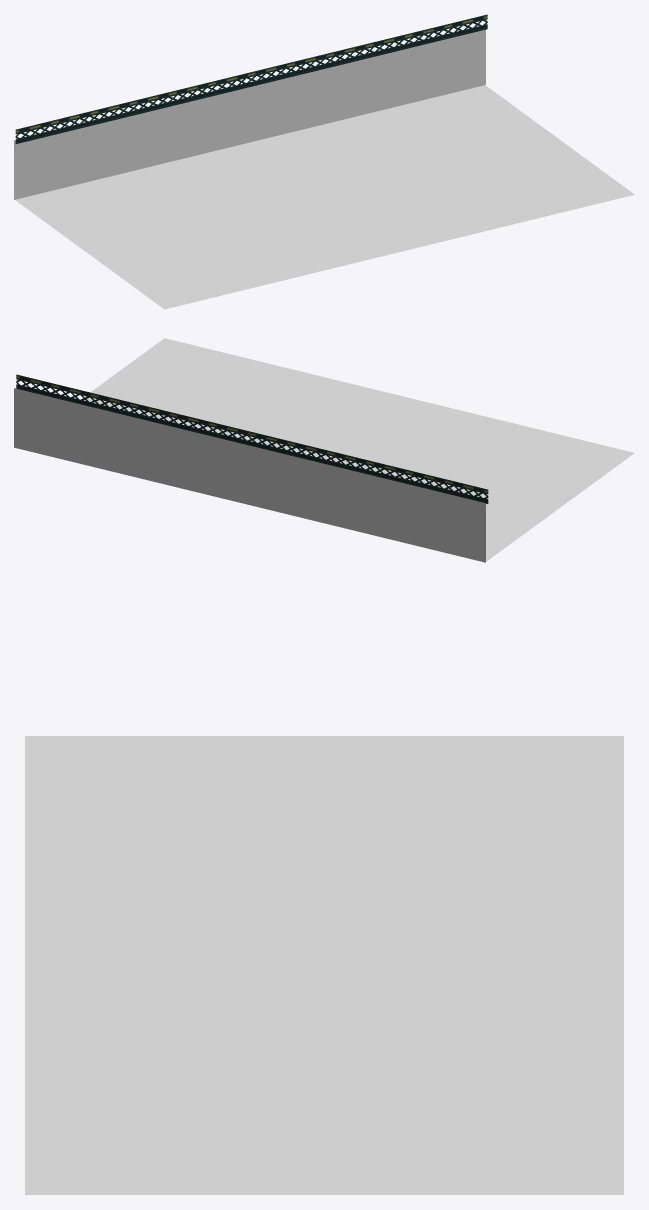
File: background_b.FBX
The picture shows the model from 3 angles, top to bottom: view 1: azimuth 30°, elevation 25°; view 2: azimuth 150°, elevation 25°; view 3: azimuth 270°, elevation 25°; orthographic projection. The views are drawn at different scales.
Parts seen in each view (by area): view 1: navimesh, wall, chulgole; view 2: navimesh, wall, chulgole; view 3: navimesh.
Boxes of the visible parts, bbox=[...] form: navimesh: bbox=[15, 85, 634, 309]; wall: bbox=[14, 29, 485, 199]; chulgole: bbox=[15, 14, 487, 143]; navimesh: bbox=[82, 338, 634, 561]; wall: bbox=[14, 388, 485, 562]; chulgole: bbox=[16, 374, 488, 503]; navimesh: bbox=[25, 736, 623, 1194].
Bounding box in the file's own units: 5502 × 3021 × 801.
